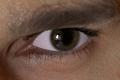eye: (52, 28, 80, 51)
